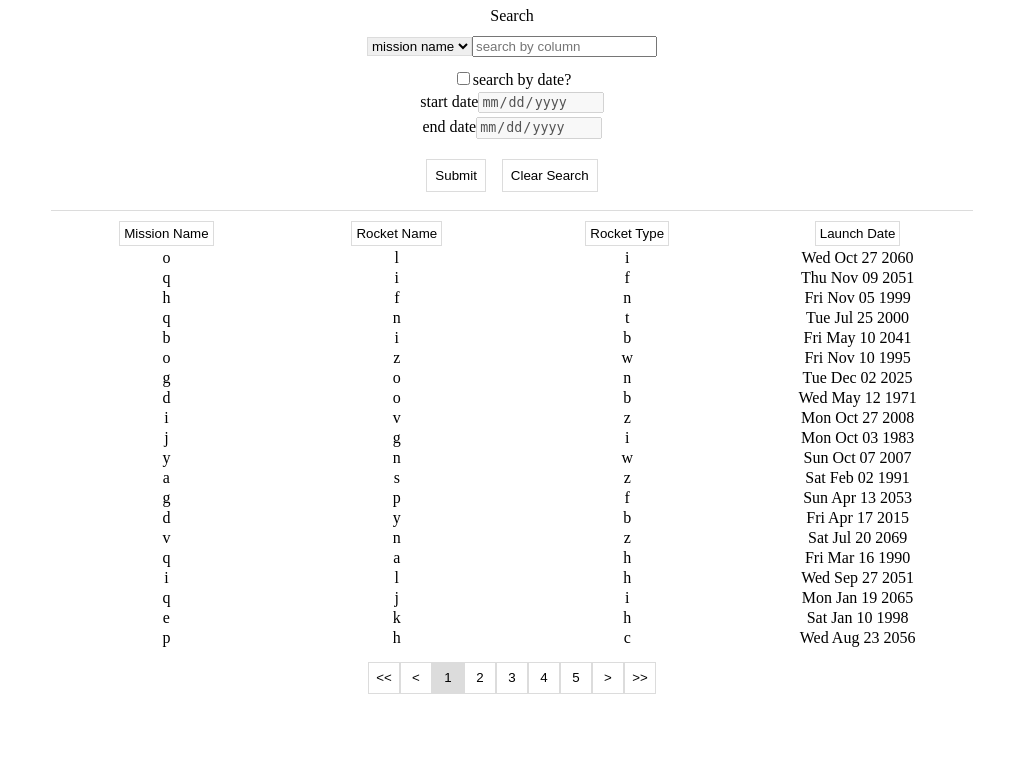
Test case: test pagination btn › test page higher than max show
Expected: the button with test id "pagination-btn" reads "1", [432,662,464,694]
Click the button with test id "pagination-btn" showing ">>" at point(640, 678), box [624,662,656,694]
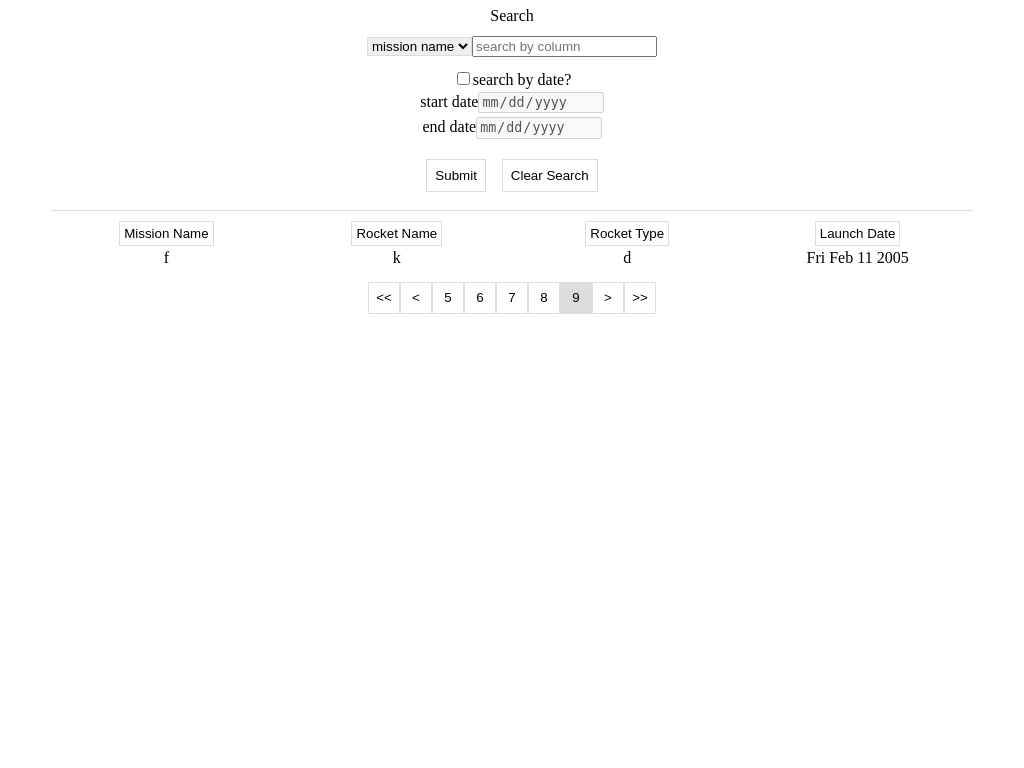
Expected: the button with test id "pagination-btn" reads "9", [560,282,592,314]
